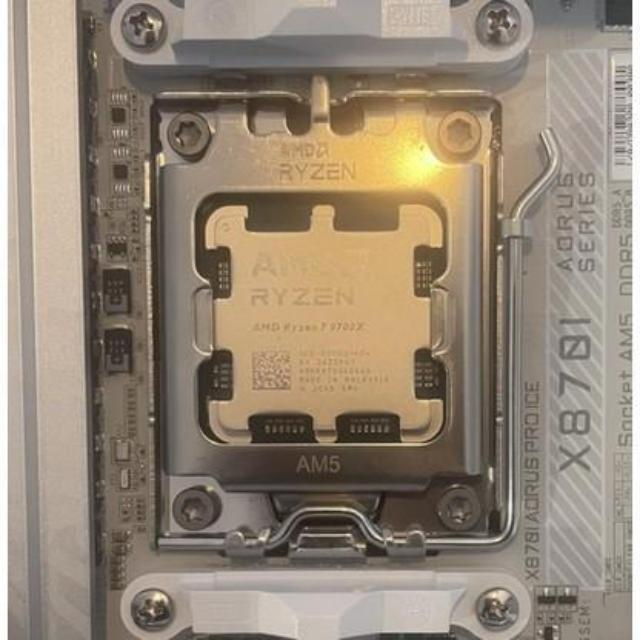CPU: (197, 198, 445, 444)
